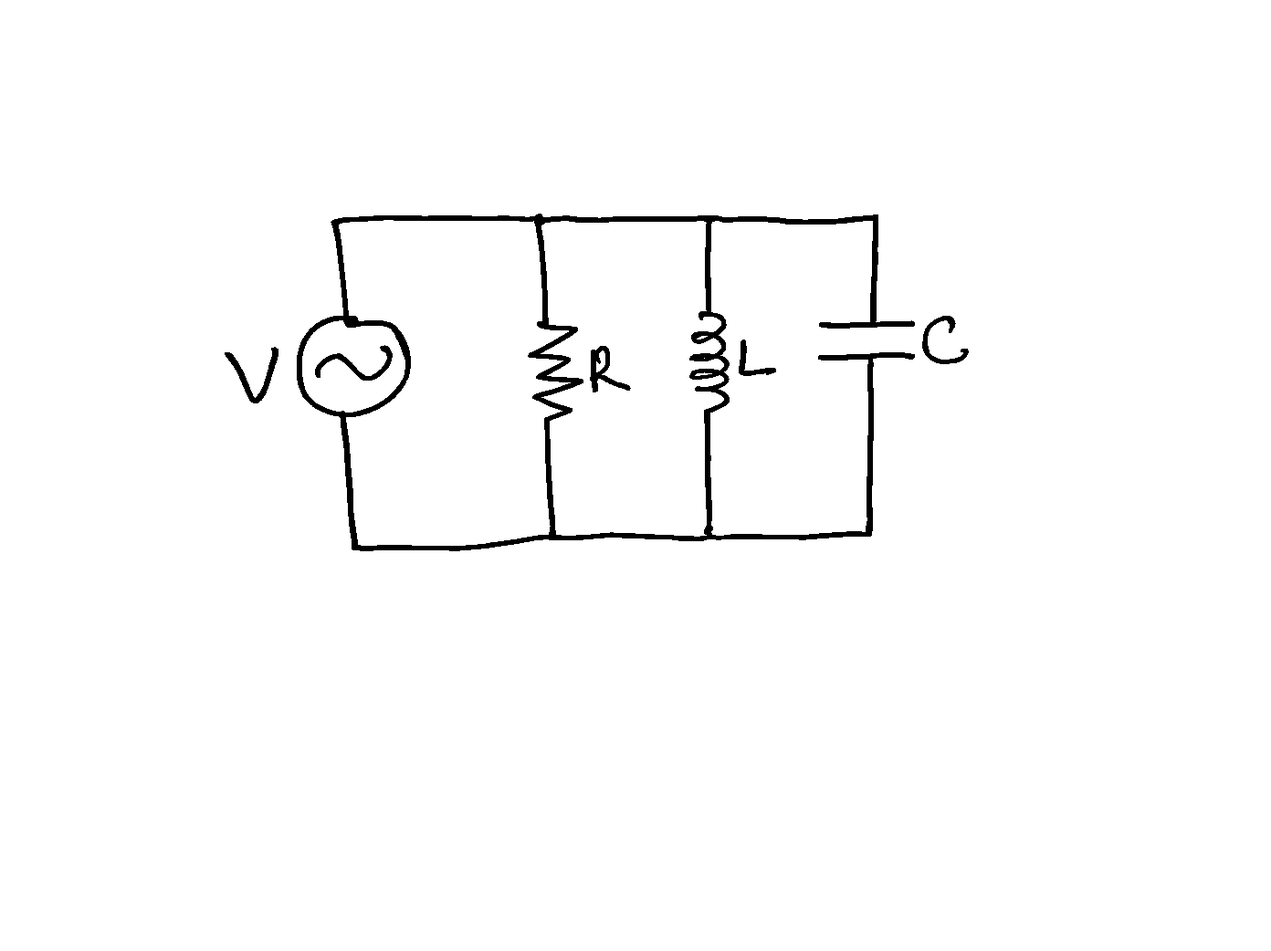capacitor.unpolarized: (816, 319, 918, 364)
inductor: (689, 308, 730, 418)
junction: (694, 520, 720, 546), (530, 209, 549, 232), (860, 522, 877, 541), (702, 211, 720, 228), (543, 528, 562, 543), (328, 214, 345, 230), (347, 539, 364, 553), (867, 212, 881, 226)
resistor: (527, 319, 585, 423)
text: (226, 347, 282, 405), (920, 313, 969, 365), (588, 345, 632, 393), (738, 337, 777, 376)
voltage.ac: (289, 314, 411, 417)
